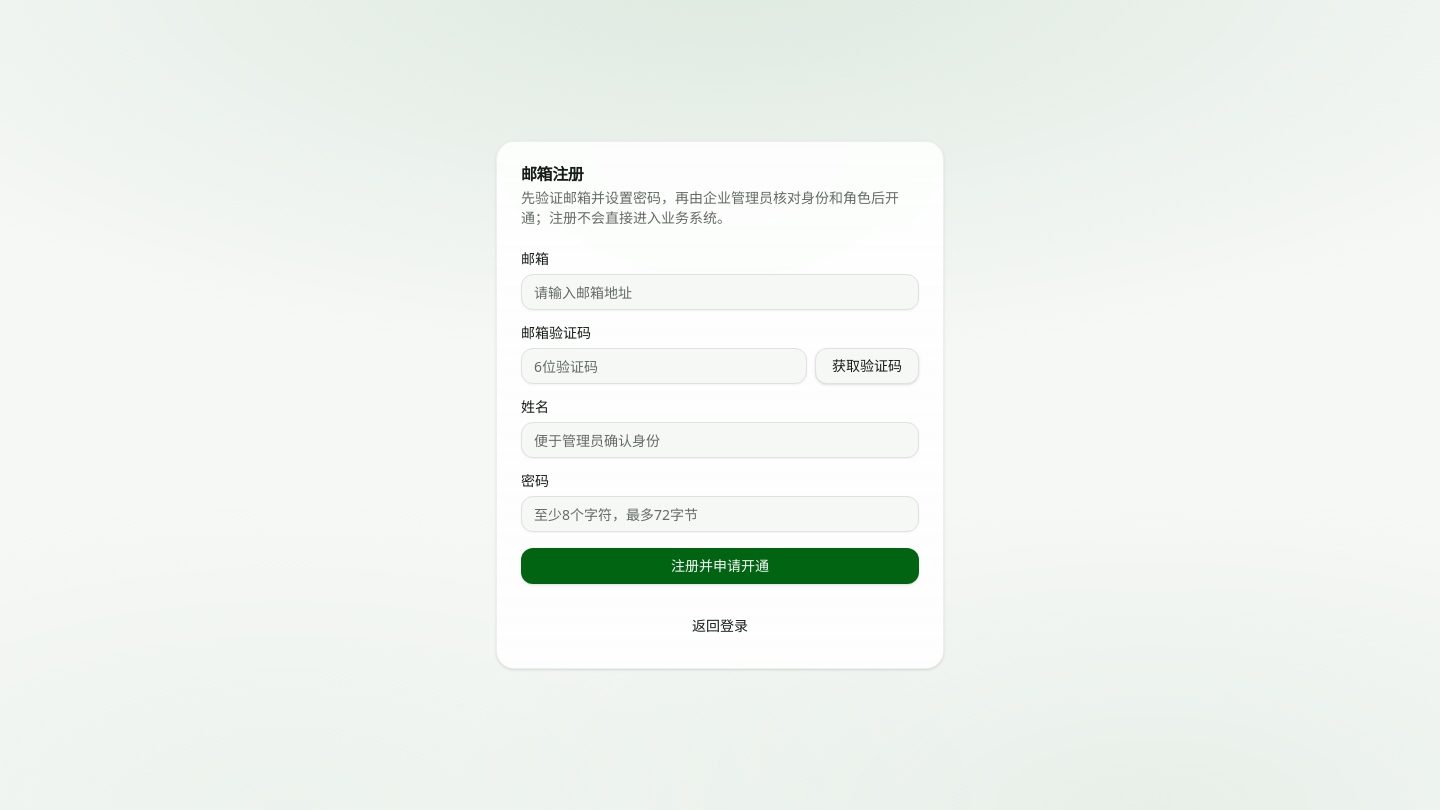
邮箱注册 › 提交失败保留表单，不创建成功回执
Type "new@example.com" into the field labelled "邮箱" at (720, 292), box x1=521 y1=274 x2=919 y2=310
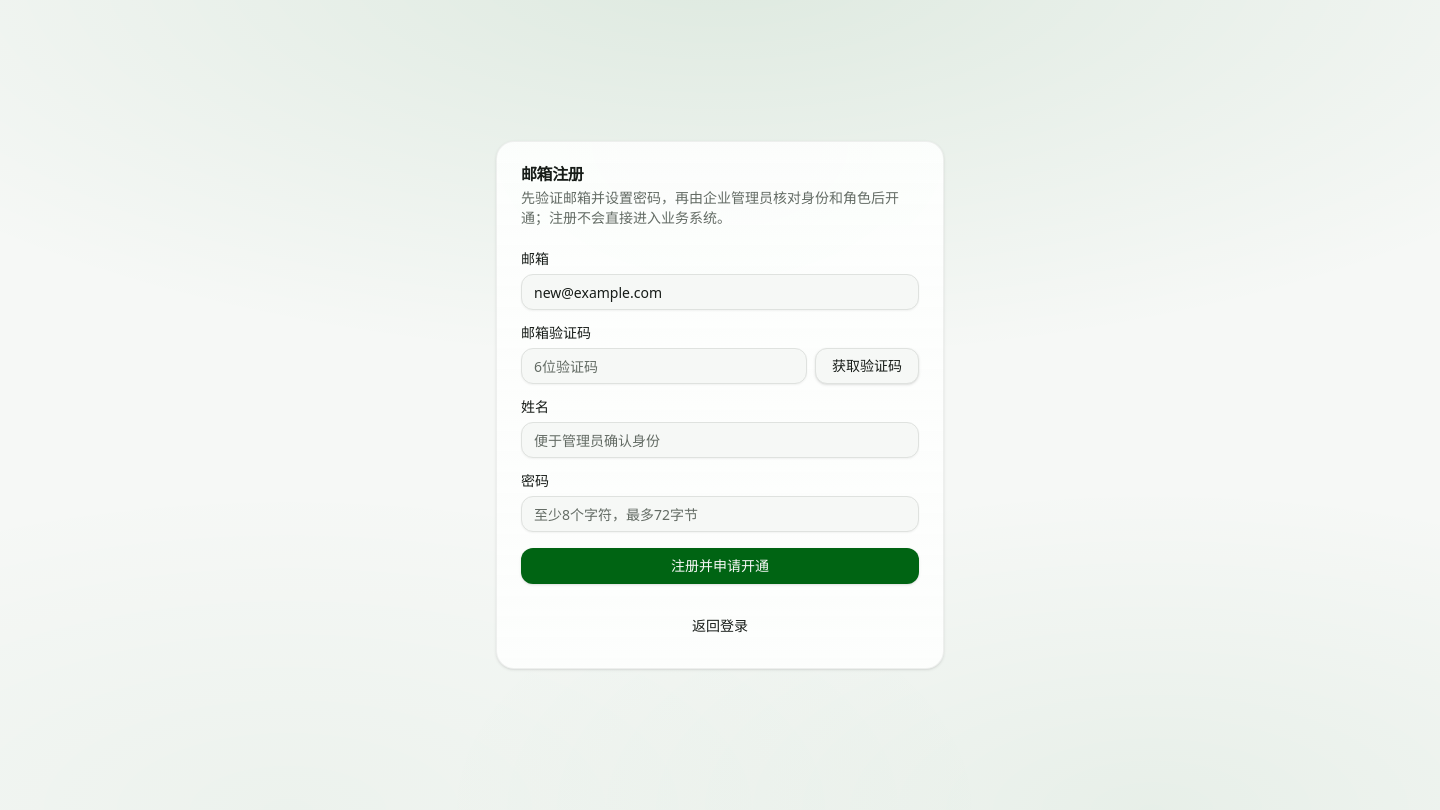
Type "123456" into the field labelled "邮箱验证码" at (664, 366), box x1=521 y1=348 x2=807 y2=384
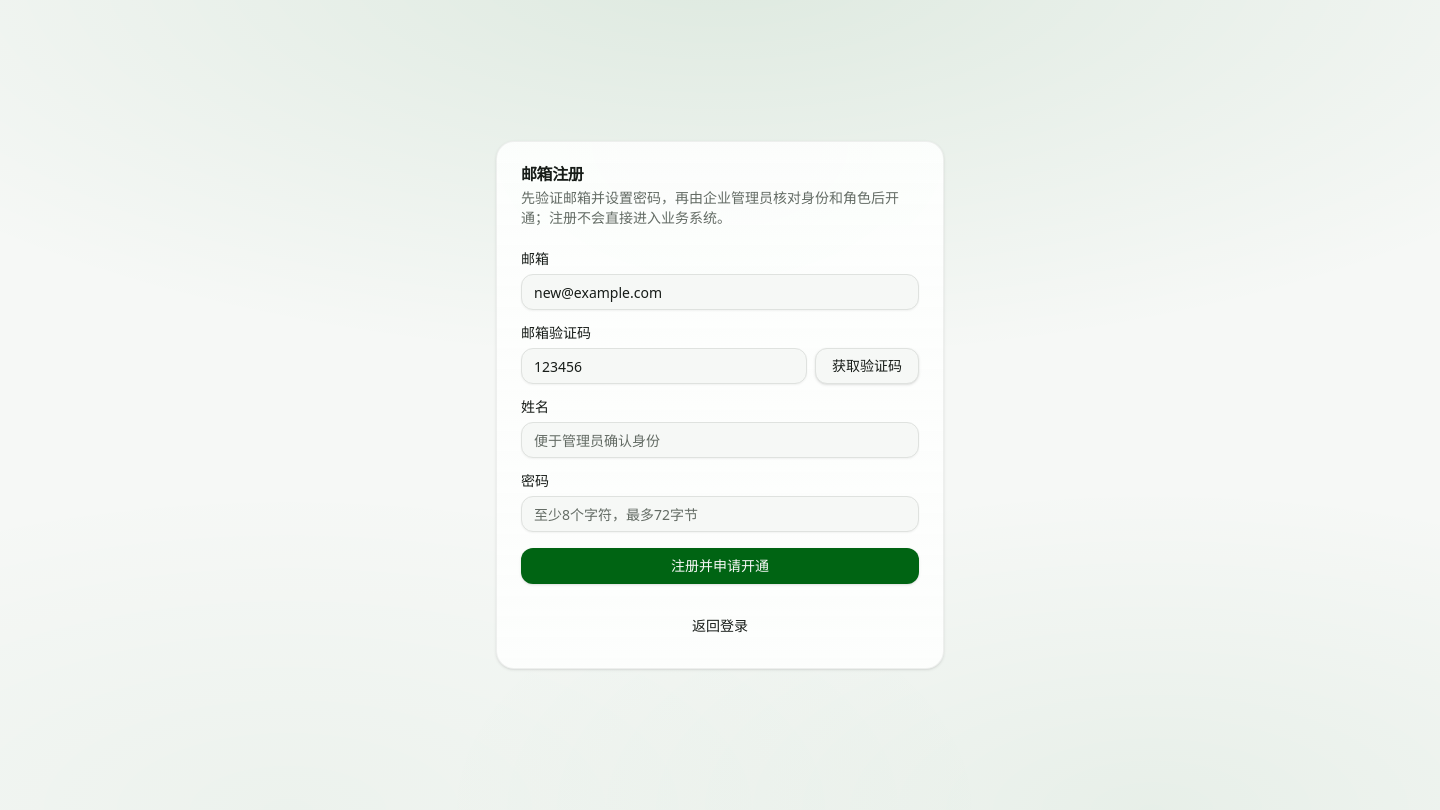
Type "测试用户" into the field labelled "姓名" at (720, 440), box x1=521 y1=422 x2=919 y2=458
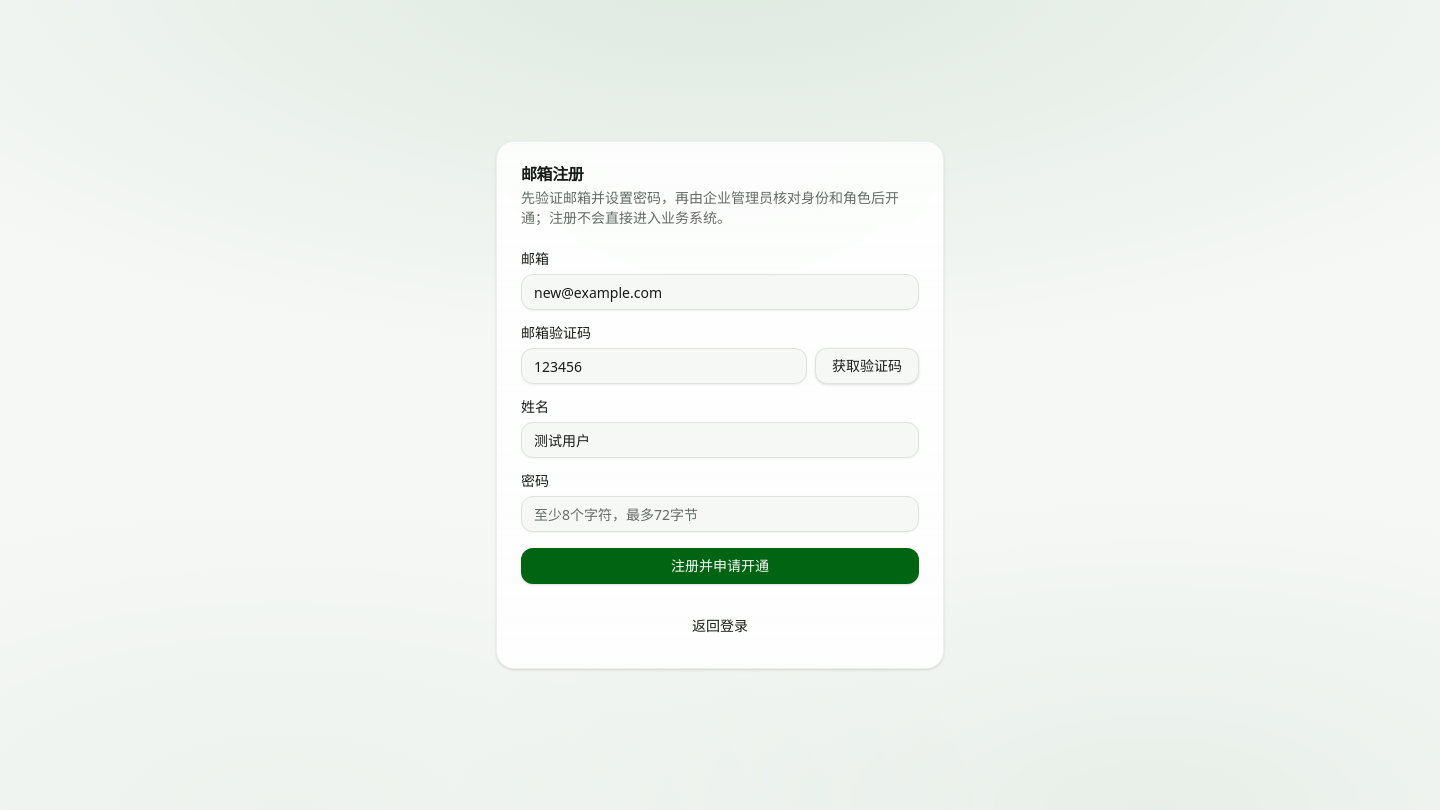
Type "non-production-test" into the password field labelled "密码" at (720, 514), box x1=521 y1=496 x2=919 y2=532
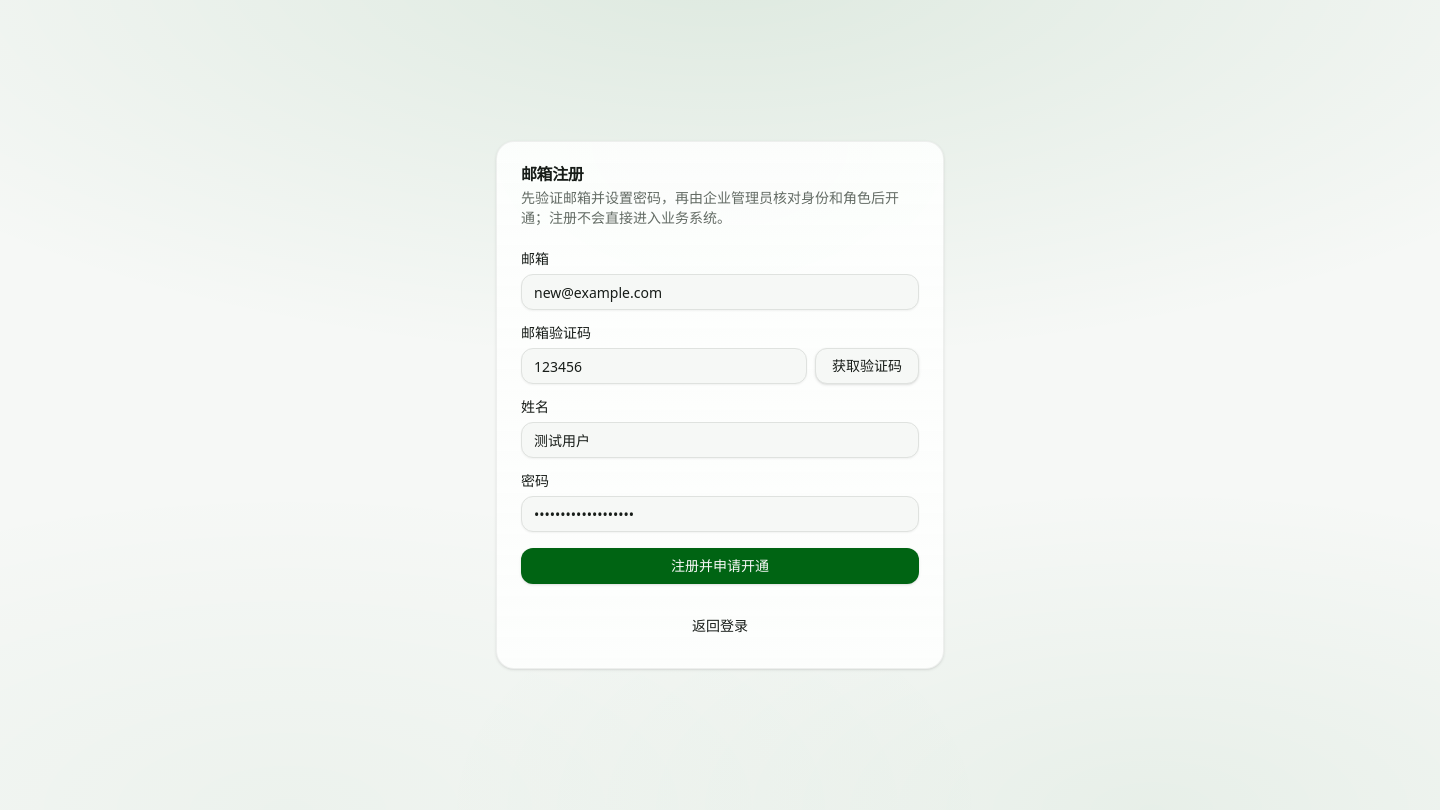
Click the button "注册并申请开通" at (720, 566), box x1=521 y1=548 x2=919 y2=584
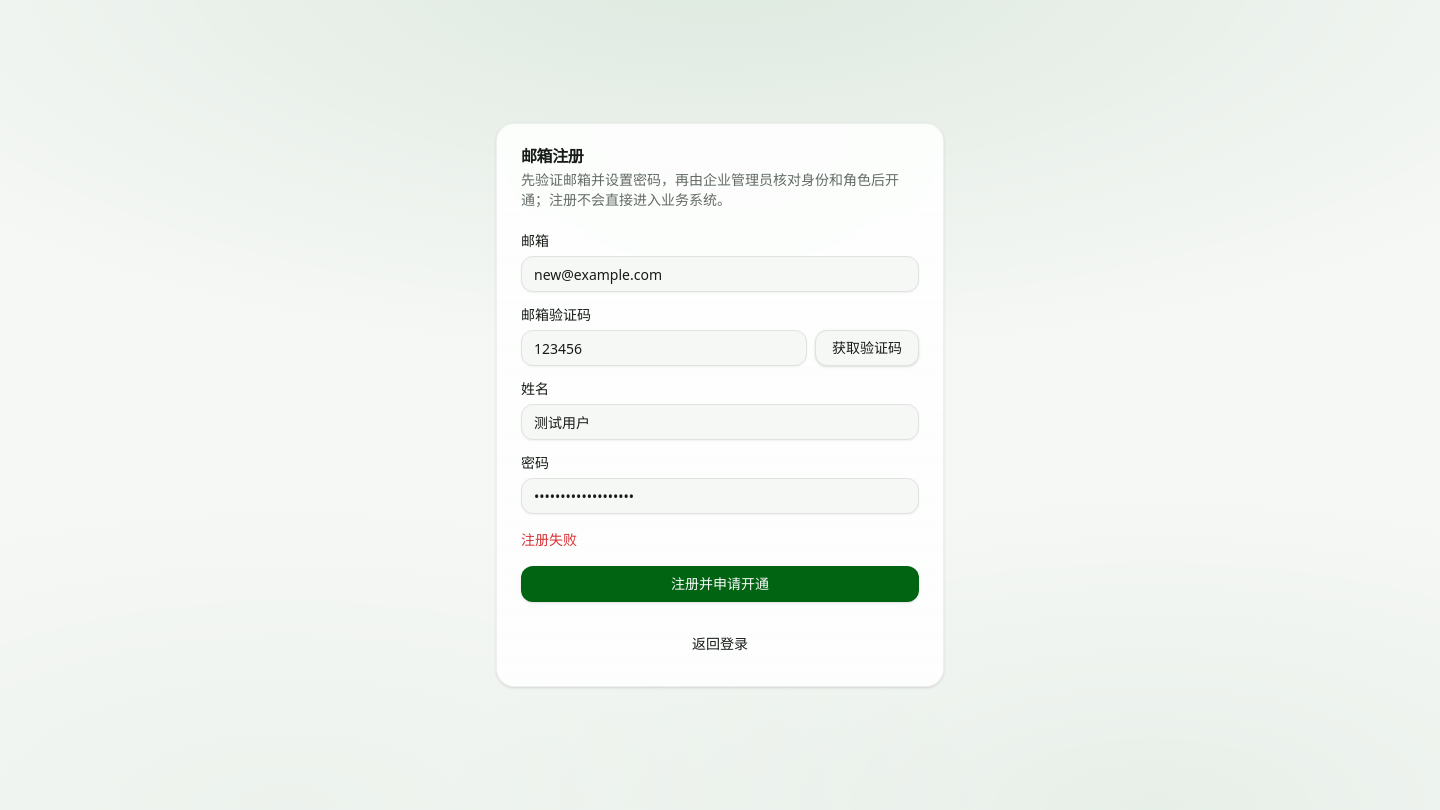
Expected: the message reads "注册失败", x1=521 y1=530 x2=577 y2=549
